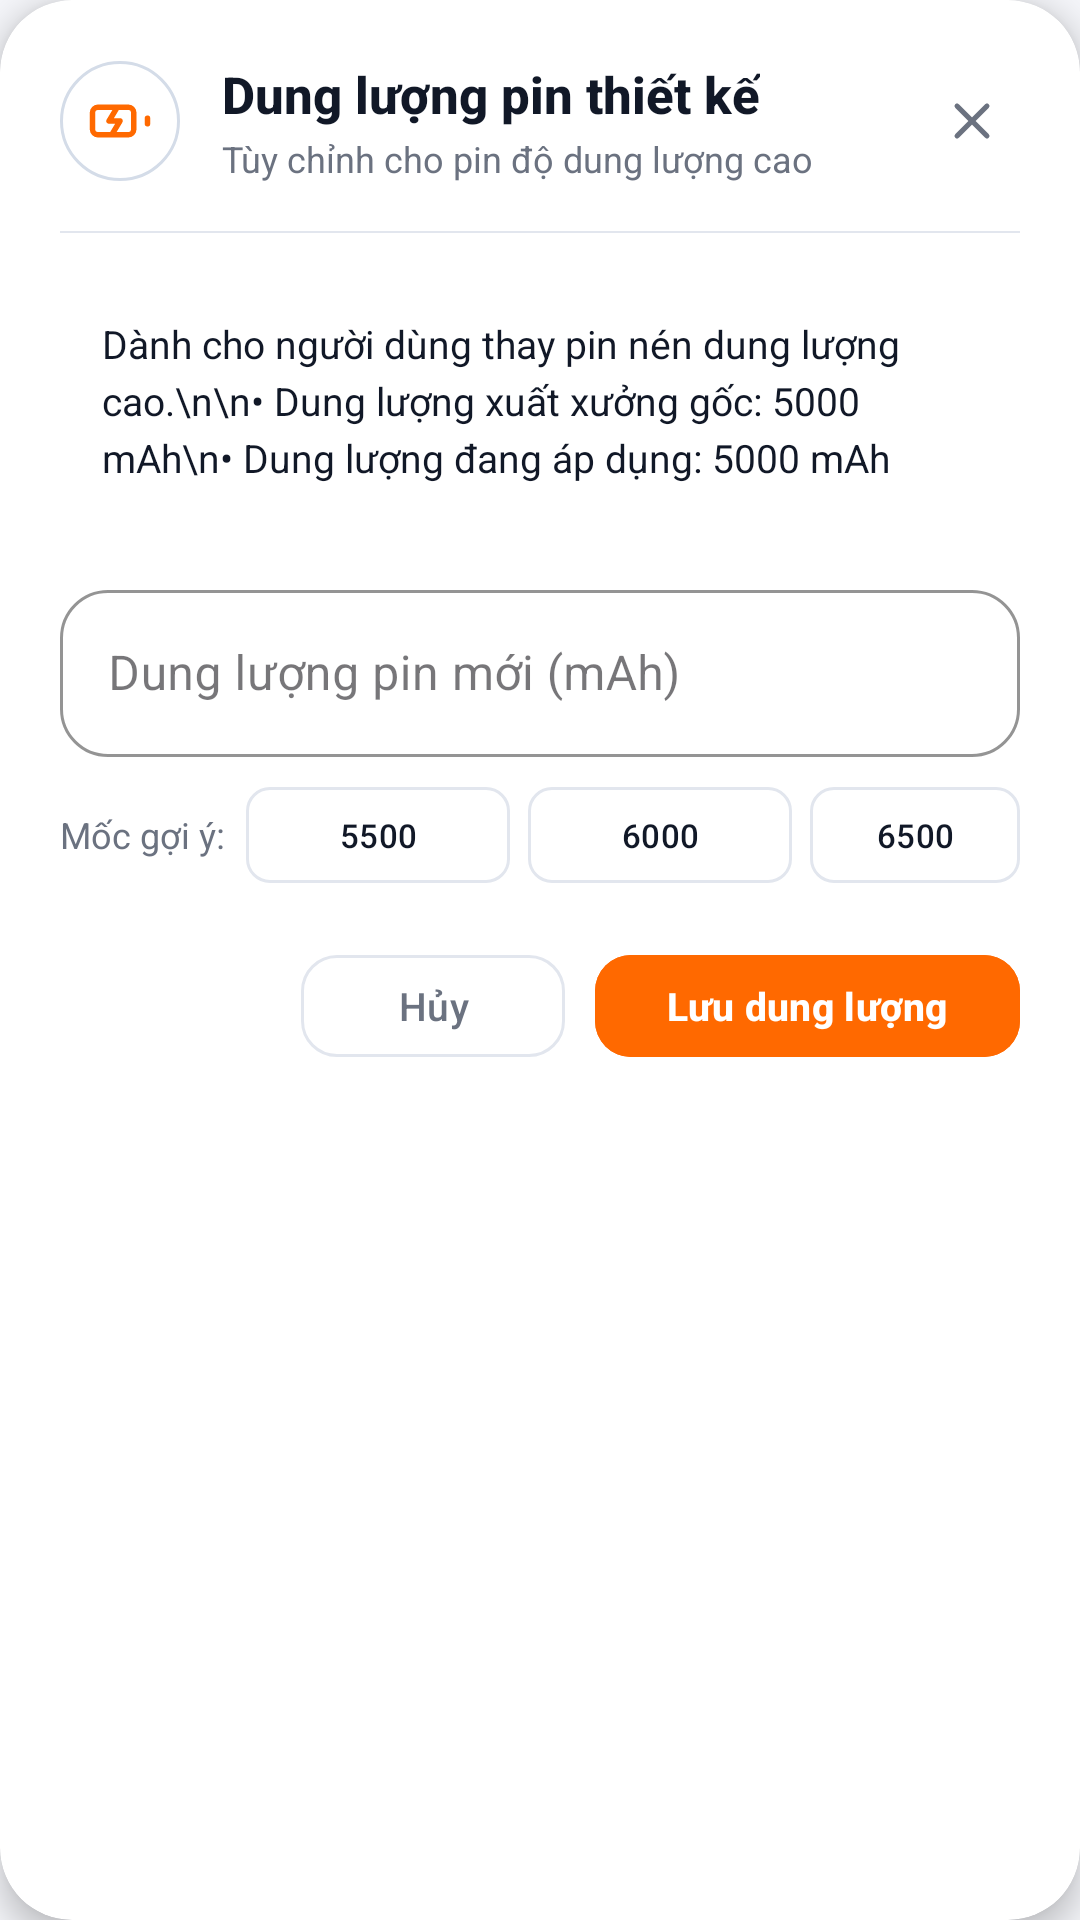

Screen size 1080*1920. Icon name, then its box in pixels as (x1, y1, x2, y2):
battery: (89, 104, 151, 138)
close: (954, 103, 990, 139)
